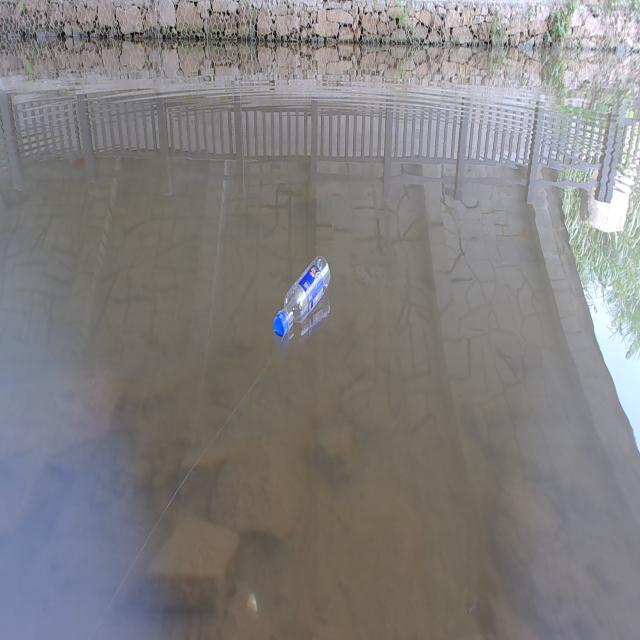bottle: (267, 239, 340, 347)
